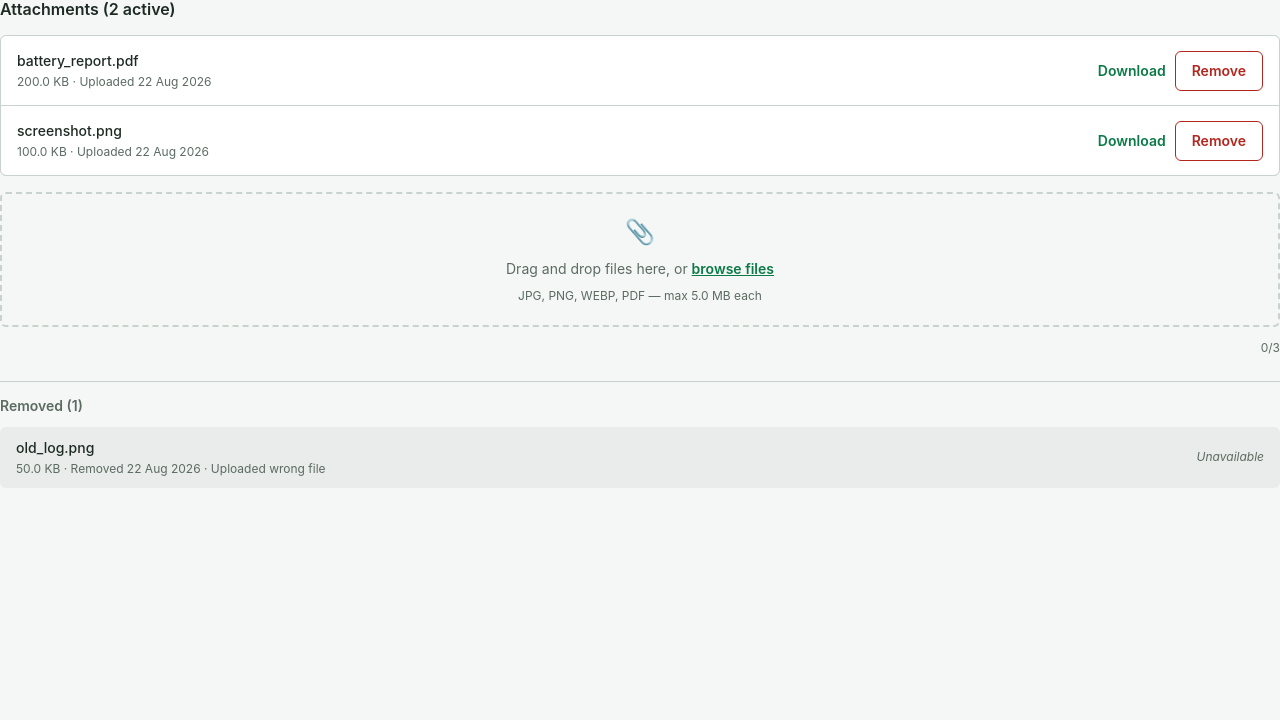
UI-14 — Remove confirmation flow (AC-19, AC-20) › Confirm Removal is enabled when reason is valid (3+ chars)
Click the button "Remove" in the row of "battery_report.pdf". click: point(1219, 71)
box: left=1175, top=51, right=1263, bottom=91
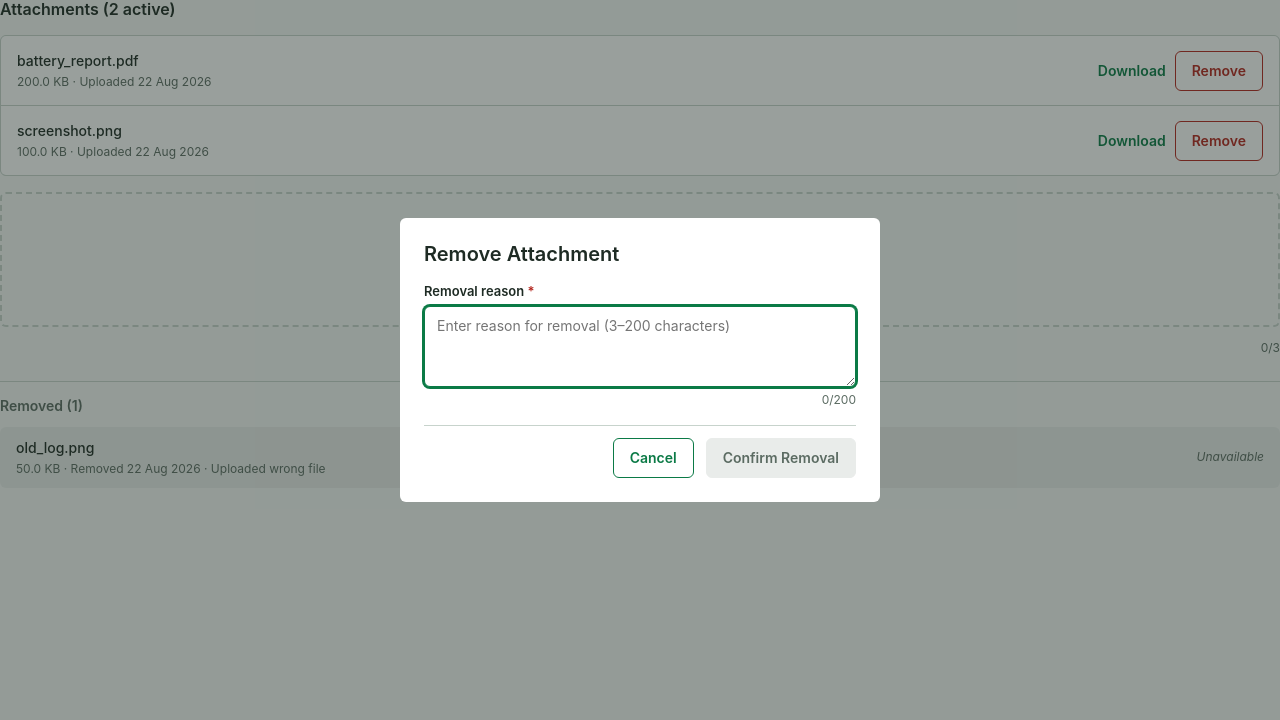
Type "Wrong file uploaded" into the text box with placeholder "Enter reason for removal (3–200 characters)". click: point(640, 346)
box: left=424, top=306, right=856, bottom=387
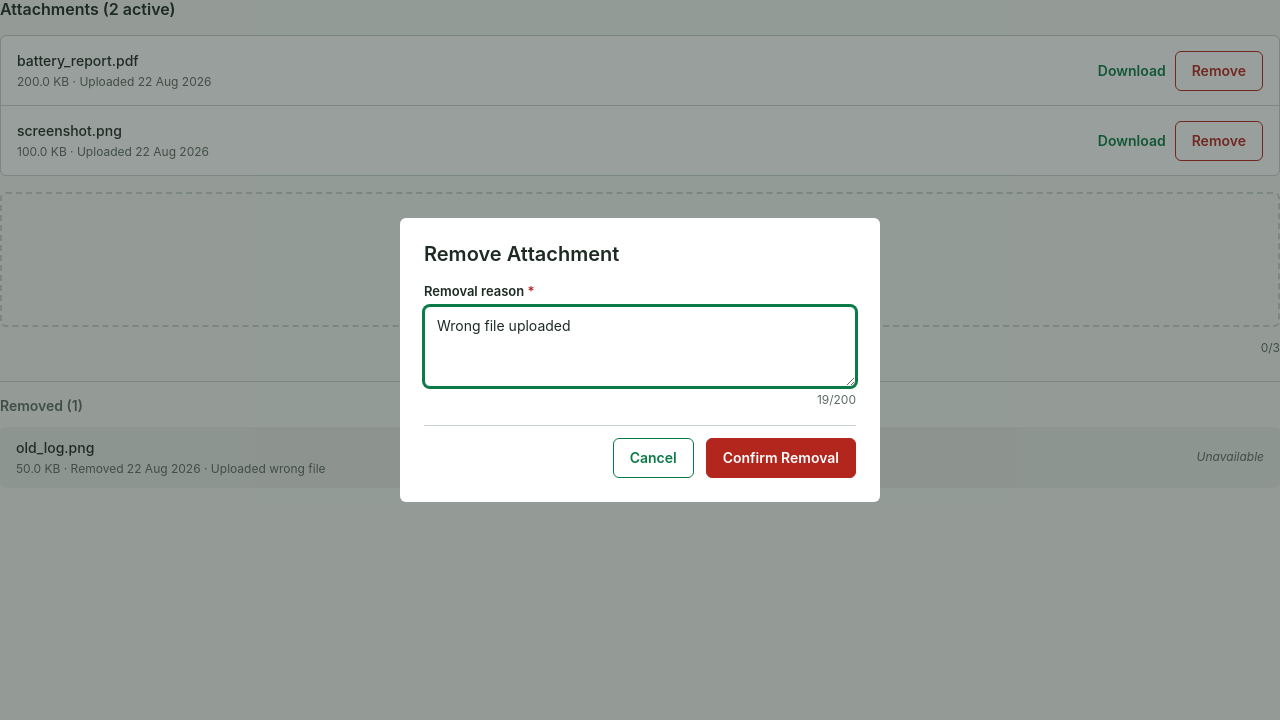
Expected: the button "Confirm Removal" is enabled, left=706, top=438, right=856, bottom=478
